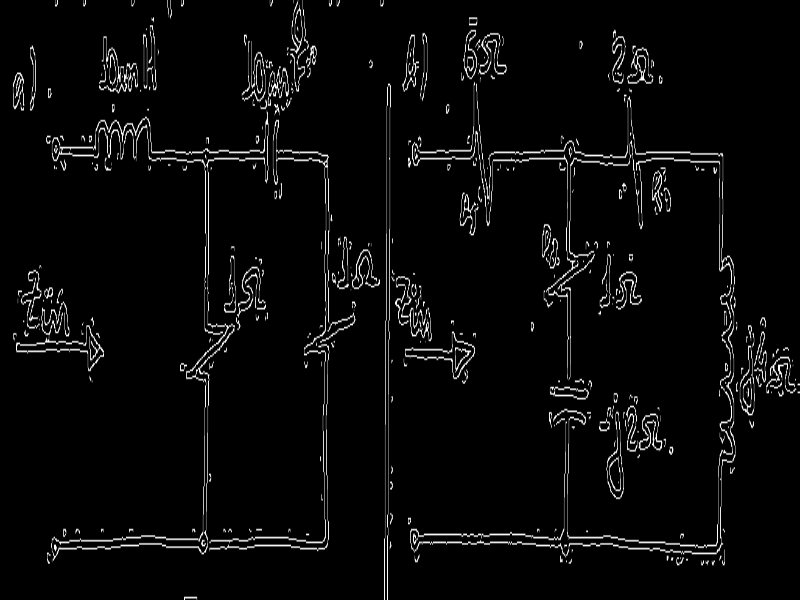-: (597, 414, 612, 437), (467, 15, 479, 28)
0: (253, 46, 267, 103), (106, 43, 119, 93)
1: (240, 34, 255, 105), (222, 246, 237, 316), (598, 241, 611, 316), (337, 231, 350, 295), (98, 30, 109, 94)
2: (611, 33, 627, 86), (625, 403, 639, 455), (548, 234, 561, 273)
3: (663, 187, 672, 215)
4: (752, 325, 769, 386)
5: (469, 201, 479, 237)
6: (462, 26, 478, 80)
F: (291, 34, 309, 96)
H: (141, 21, 158, 94)
m: (115, 58, 139, 95), (267, 66, 290, 98)
